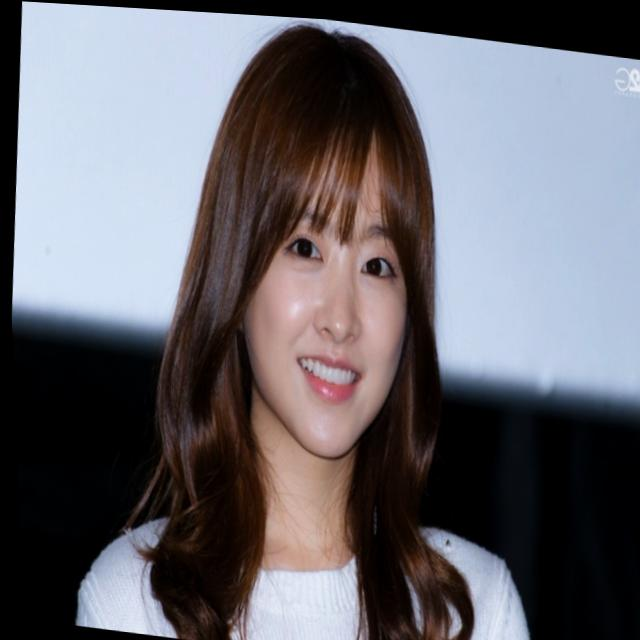face: (354, 50, 528, 467)
